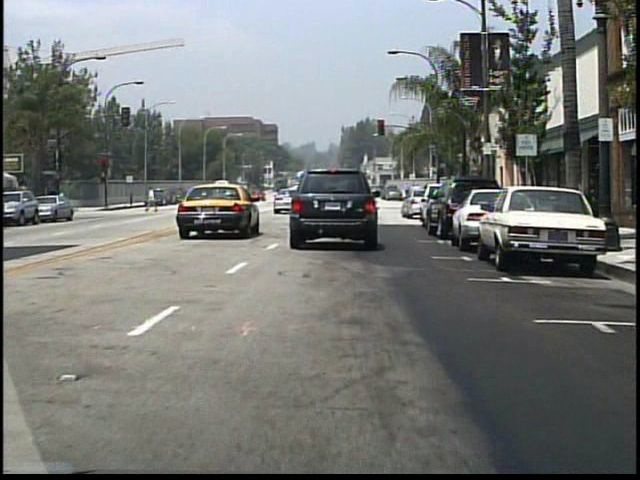person: (367, 185, 384, 216), (145, 187, 161, 215)
